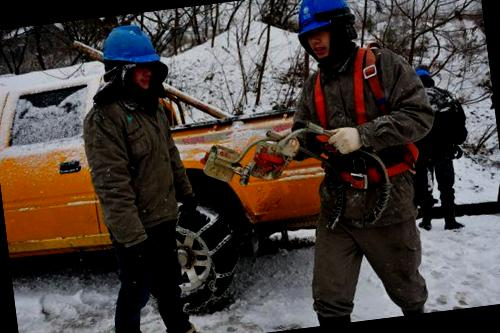person: (254, 0, 444, 325), (69, 16, 223, 333), (388, 58, 478, 232)
